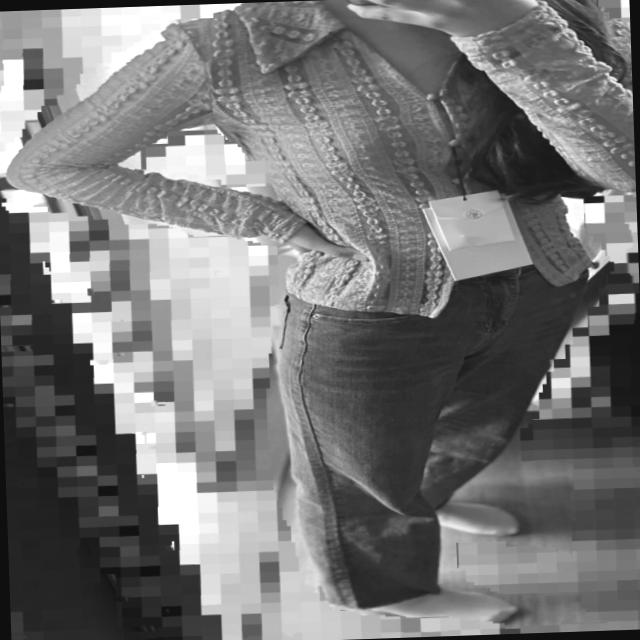cardigan: (0, 0, 640, 325)
denimpants: (266, 250, 592, 604)
